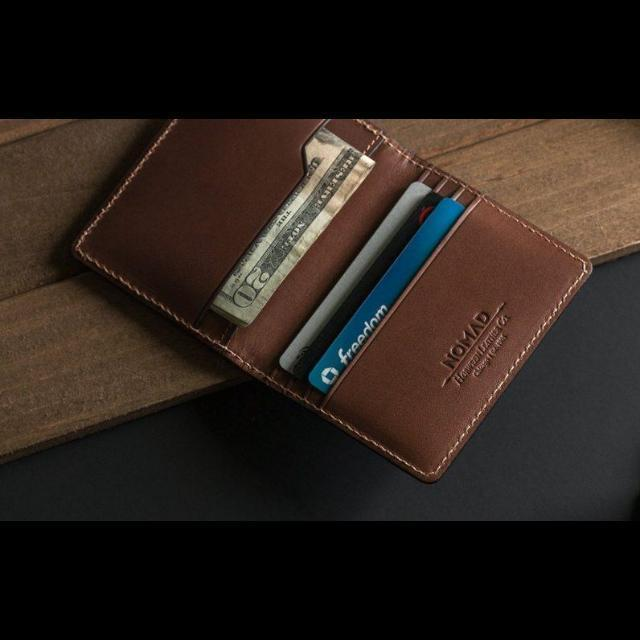wallet: (68, 118, 594, 484)
